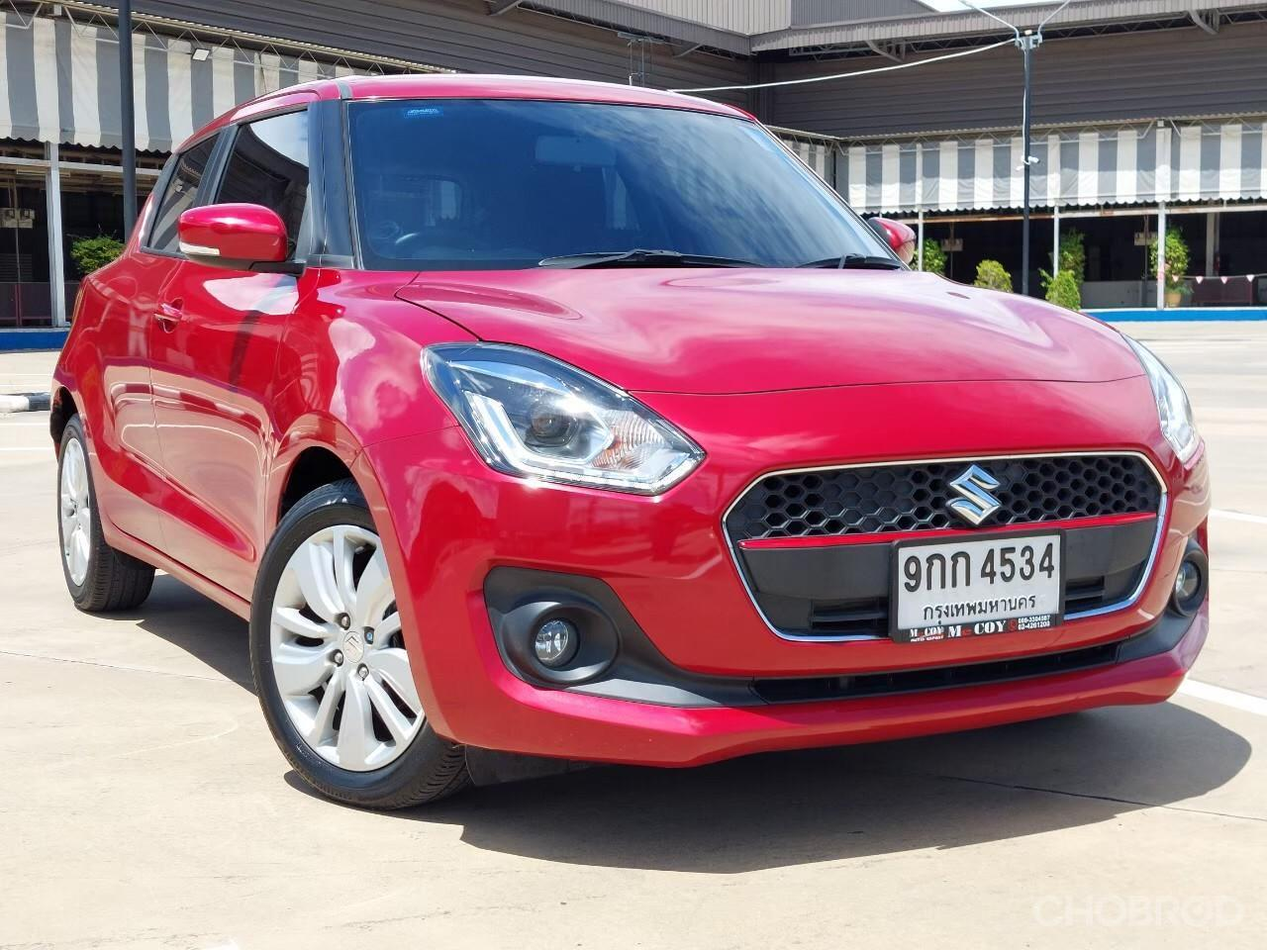license-plate: (885, 526, 1071, 653)
